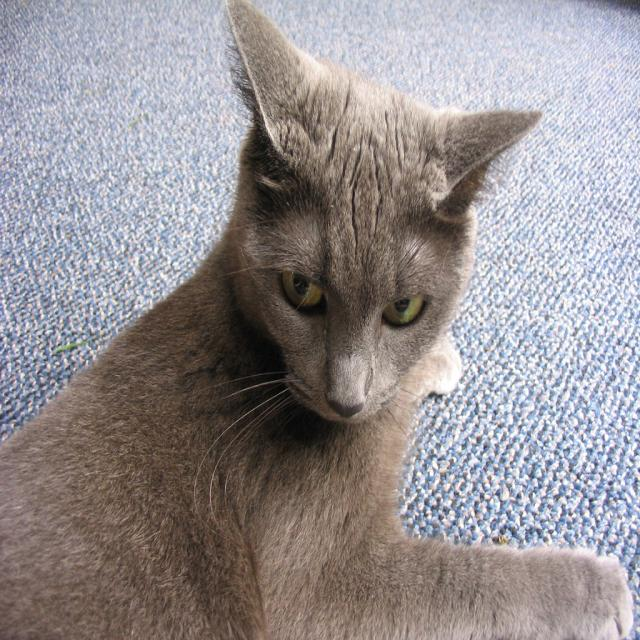cat: (1, 1, 634, 639)
